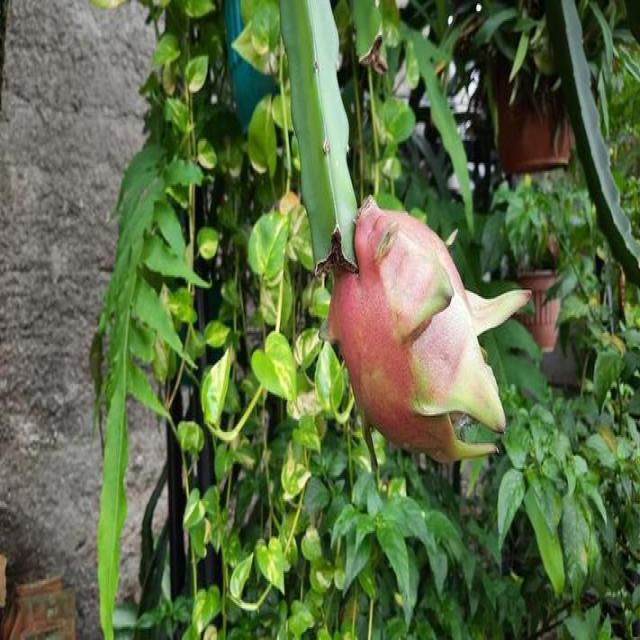dragon-fruit: (329, 207, 485, 456)
